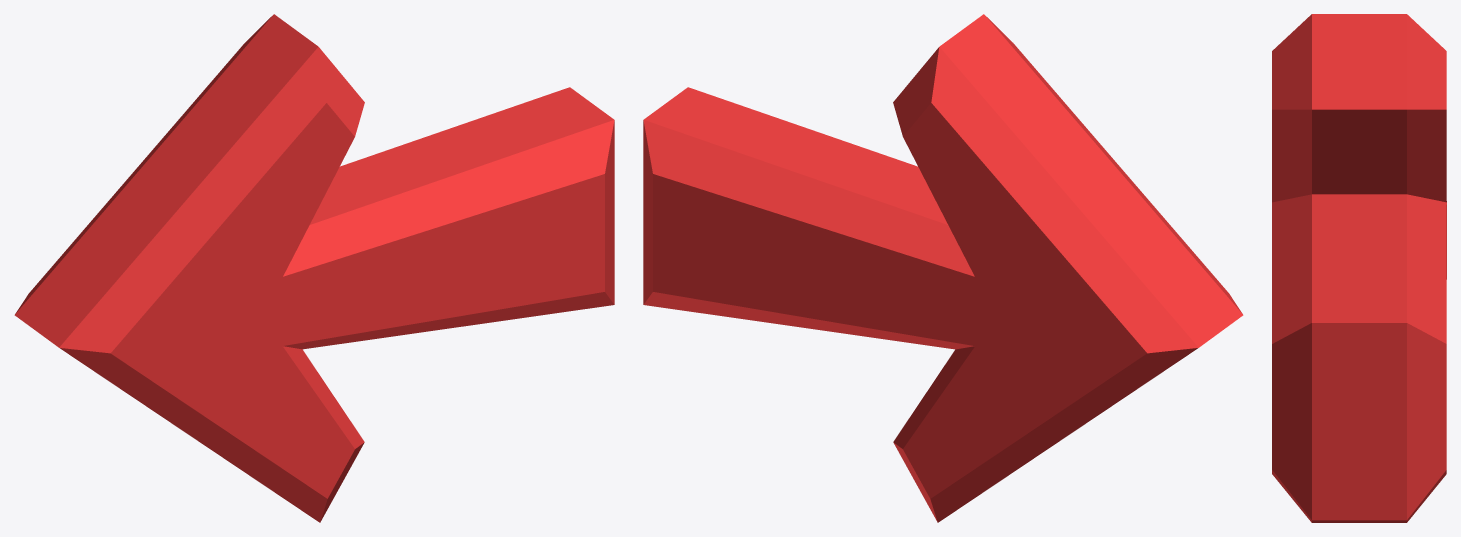
The model's file is Arrow_TypeA_Left.FBX.
The picture shows the model from 3 angles, left to right: view 1: azimuth 30°, elevation 25°; view 2: azimuth 150°, elevation 25°; view 3: azimuth 270°, elevation 25°; orthographic projection. The views are drawn at different scales.
Parts seen in each view (by area): view 1: Arrow_TypeA_Left; view 2: Arrow_TypeA_Left; view 3: Arrow_TypeA_Left.
Part boxes in pixels (<box>): Arrow_TypeA_Left: <box>14,14,614,522</box>; Arrow_TypeA_Left: <box>643,14,1243,522</box>; Arrow_TypeA_Left: <box>1272,14,1446,522</box>.
Size of the model in its own units: 25.65 by 21.04 by 6.55.
